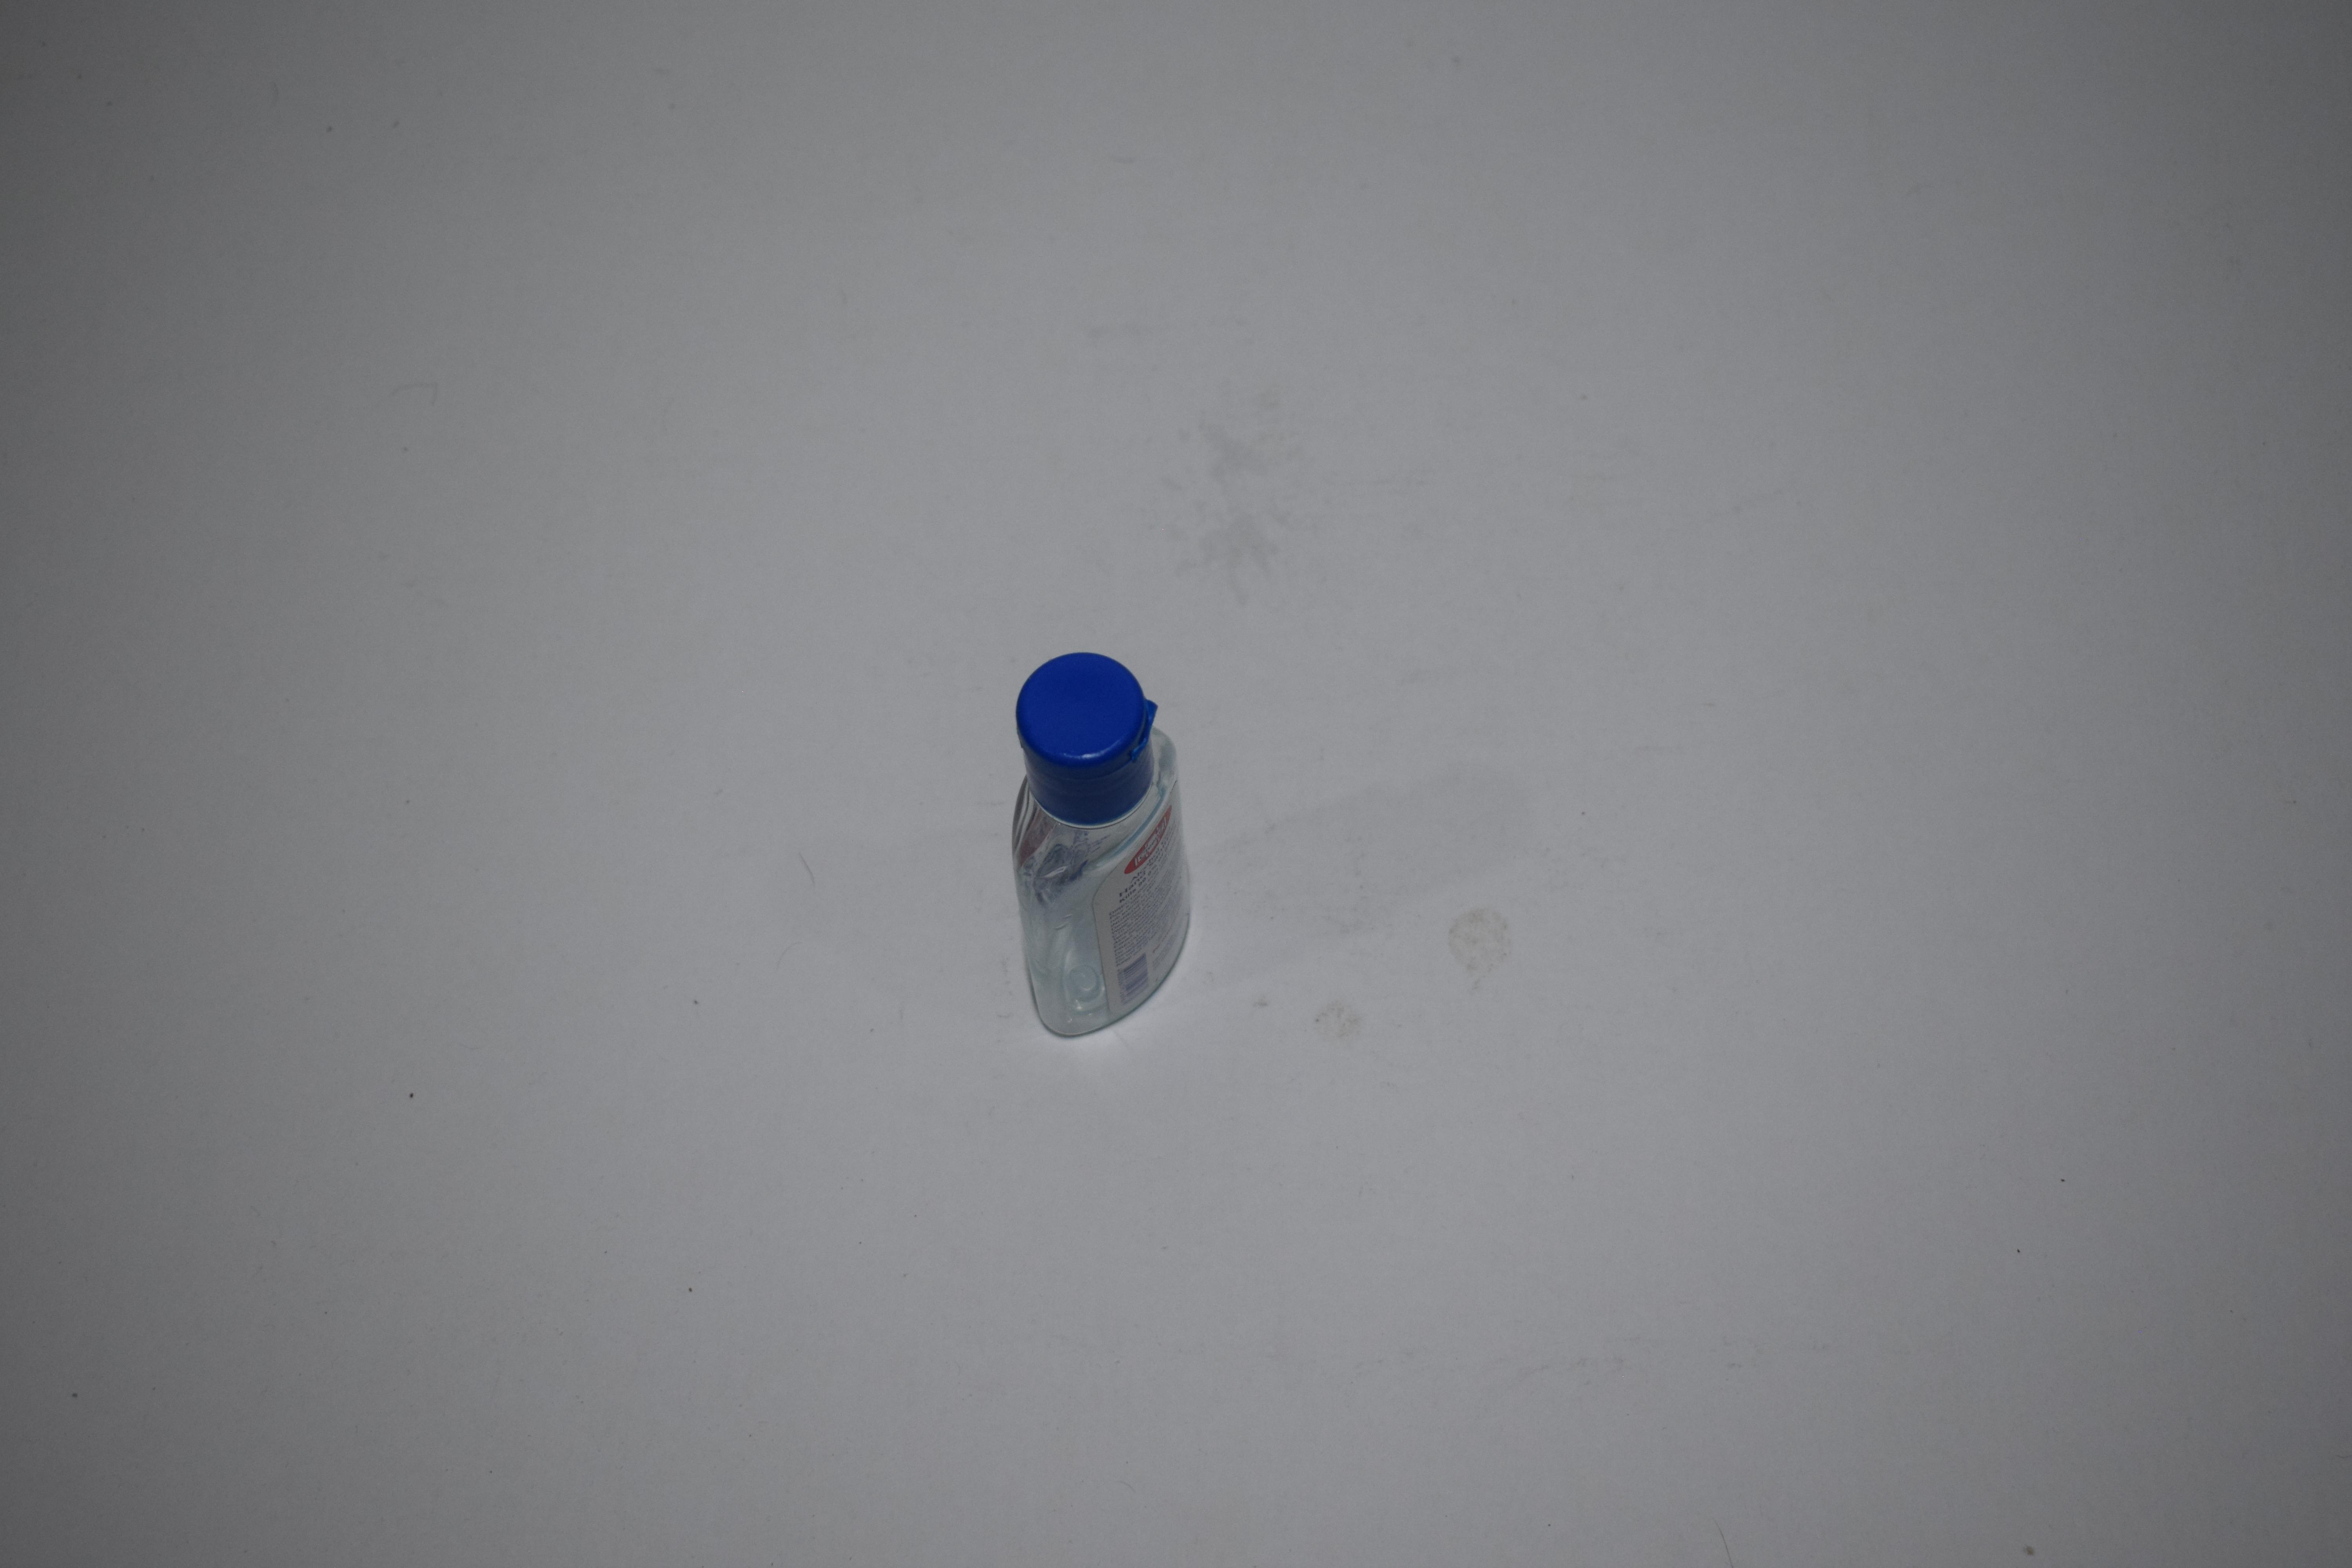bottle: (1010, 0, 1197, 222)
